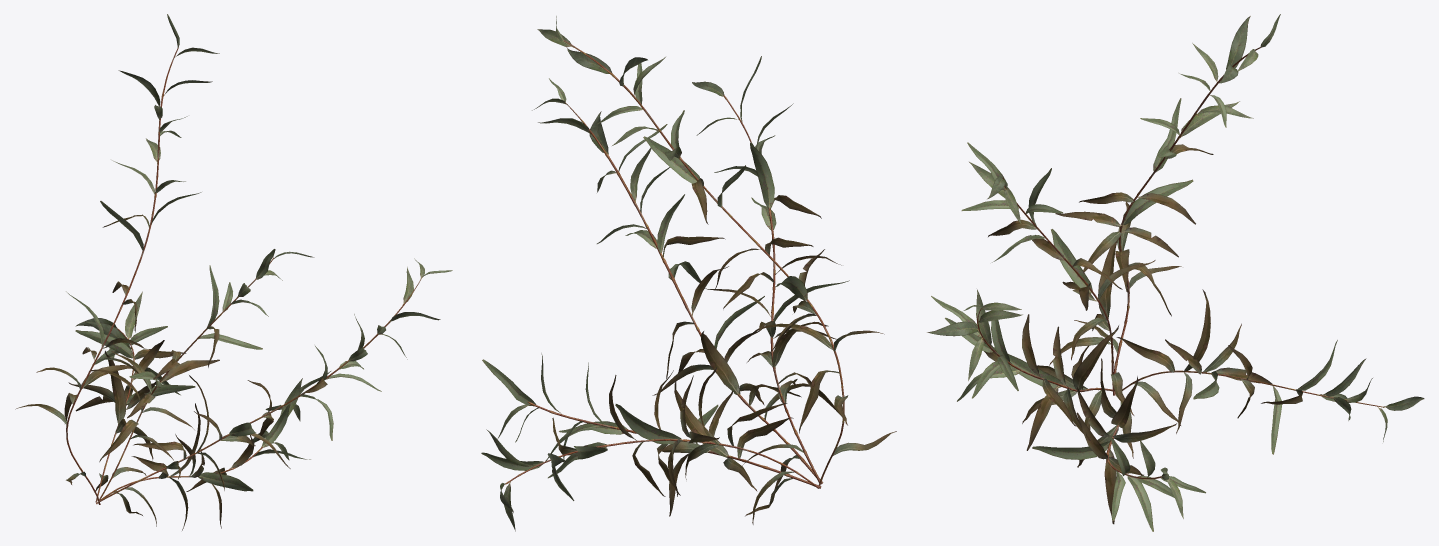
Rendered from shrub_02_a.glb.
3 renders of one model, left to right at view 1: azimuth 30°, elevation 25°; view 2: azimuth 150°, elevation 25°; view 3: azimuth 270°, elevation 25°, orthographic. The views are drawn at different scales.
Parts seen in each view (by area): view 1: shrub_02_a; view 2: shrub_02_a; view 3: shrub_02_a.
Boxes of the visible parts, x1,y1,x2,y2 form: shrub_02_a: [15, 14, 452, 530]; shrub_02_a: [481, 16, 896, 531]; shrub_02_a: [927, 14, 1424, 531].
Bounding box in the file's own units: 1.4 × 1.77 × 1.54.
1 material, 1 textured.
